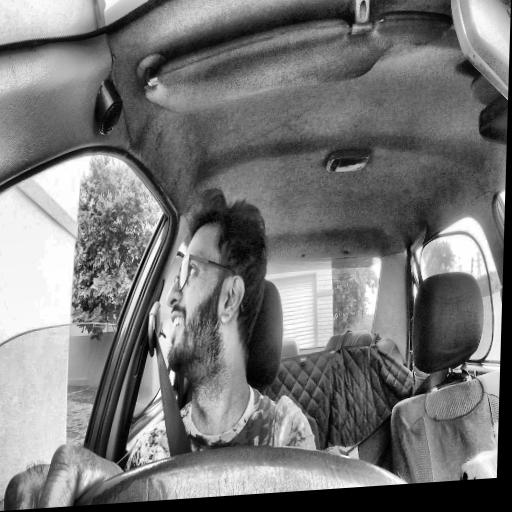awake: (163, 185, 270, 382)
